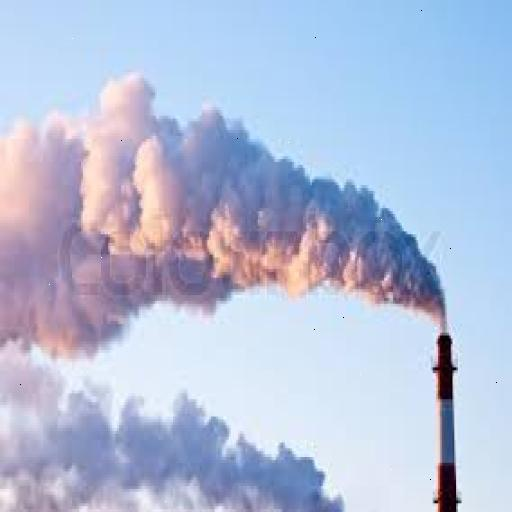smoke: (2, 58, 472, 350)
